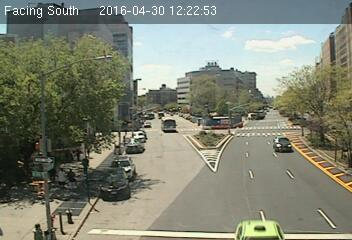neg: (136, 112, 166, 152), (126, 58, 153, 94), (289, 72, 314, 105), (297, 132, 321, 164), (42, 90, 64, 120), (199, 143, 220, 172), (170, 49, 191, 78), (145, 173, 166, 201), (11, 32, 31, 58), (221, 181, 239, 205), (244, 130, 261, 153), (178, 198, 195, 221), (63, 66, 79, 88), (20, 132, 36, 154), (248, 49, 264, 71), (315, 193, 331, 215), (270, 176, 285, 197), (63, 208, 77, 226), (265, 107, 279, 124), (114, 177, 126, 193), (227, 65, 238, 80)
pos: (78, 154, 94, 176), (64, 168, 78, 187), (31, 216, 45, 235), (54, 165, 67, 183)
